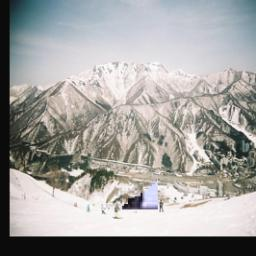Crow: (96, 42, 159, 210)
